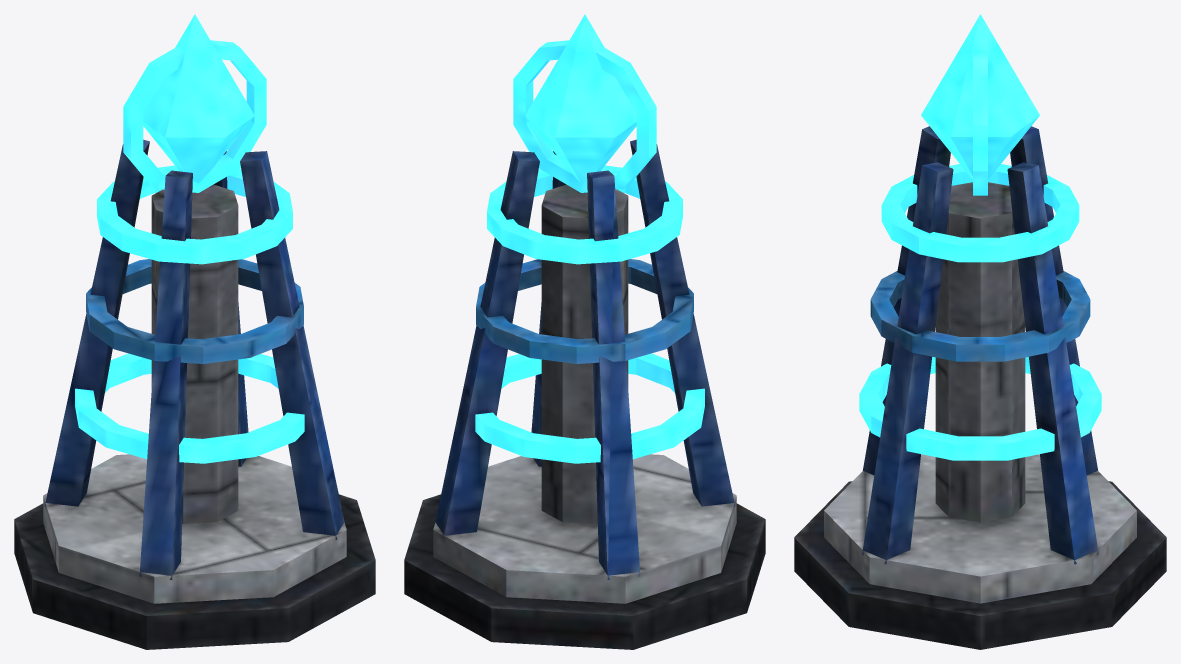
The model's file is u_pulsar2_w.glb.
The picture shows the model from 3 angles, left to right: view 1: azimuth 30°, elevation 25°; view 2: azimuth 150°, elevation 25°; view 3: azimuth 270°, elevation 25°; orthographic projection.
Visible parts, largest first — view 1: u_pulsar2_w; view 2: u_pulsar2_w; view 3: u_pulsar2_w.
Part boxes in pixels (bbox=[...]): u_pulsar2_w: bbox=[14, 14, 375, 649]; u_pulsar2_w: bbox=[404, 14, 765, 649]; u_pulsar2_w: bbox=[794, 14, 1166, 649].
Size of the model in its own units: 1.1 by 1.82 by 1.1.
1 material, 1 textured.
